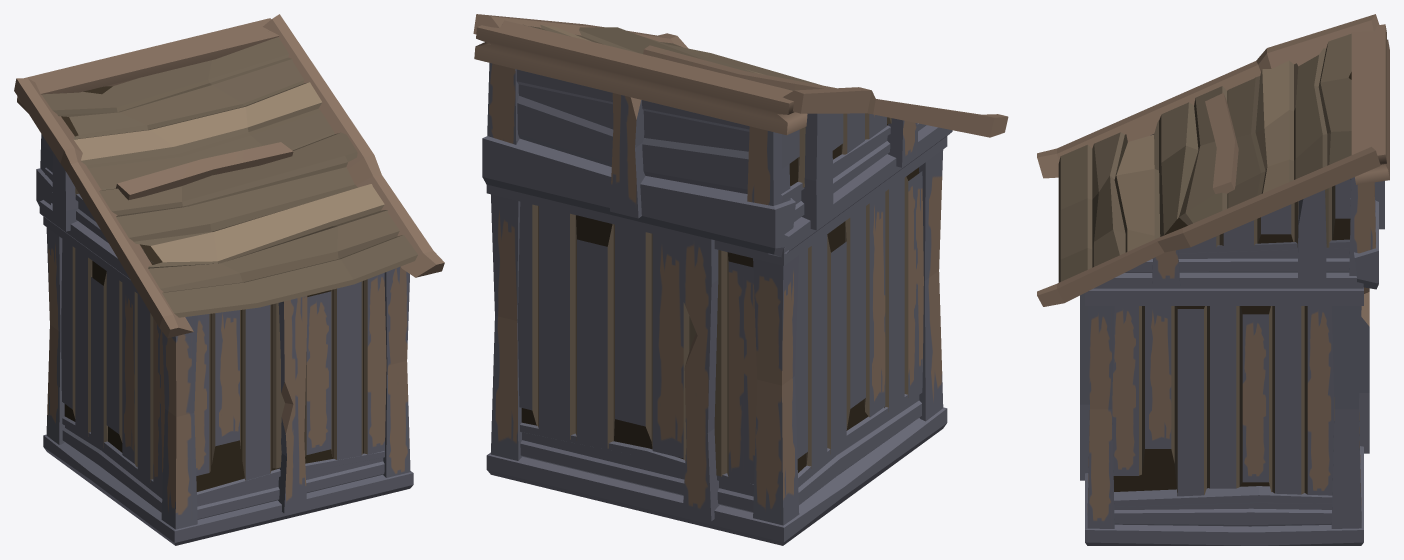
File: SM_Bld_Shanty_SideAttachment_03.fbx
3 views of the same model, side by side, from view 1: azimuth 30°, elevation 25°; view 2: azimuth 150°, elevation 25°; view 3: azimuth 270°, elevation 25° (orthographic). The views are drawn at different scales.
Visible parts, largest first — view 1: SM_Bld_Shanty_SideAttachment_03; view 2: SM_Bld_Shanty_SideAttachment_03; view 3: SM_Bld_Shanty_SideAttachment_03.
Part boxes in pixels (<box>): SM_Bld_Shanty_SideAttachment_03: <box>14,14,444,545</box>; SM_Bld_Shanty_SideAttachment_03: <box>473,14,1008,545</box>; SM_Bld_Shanty_SideAttachment_03: <box>1037,14,1389,545</box>.
Size of the model in its own units: 3.01 by 3.92 by 3.15.
